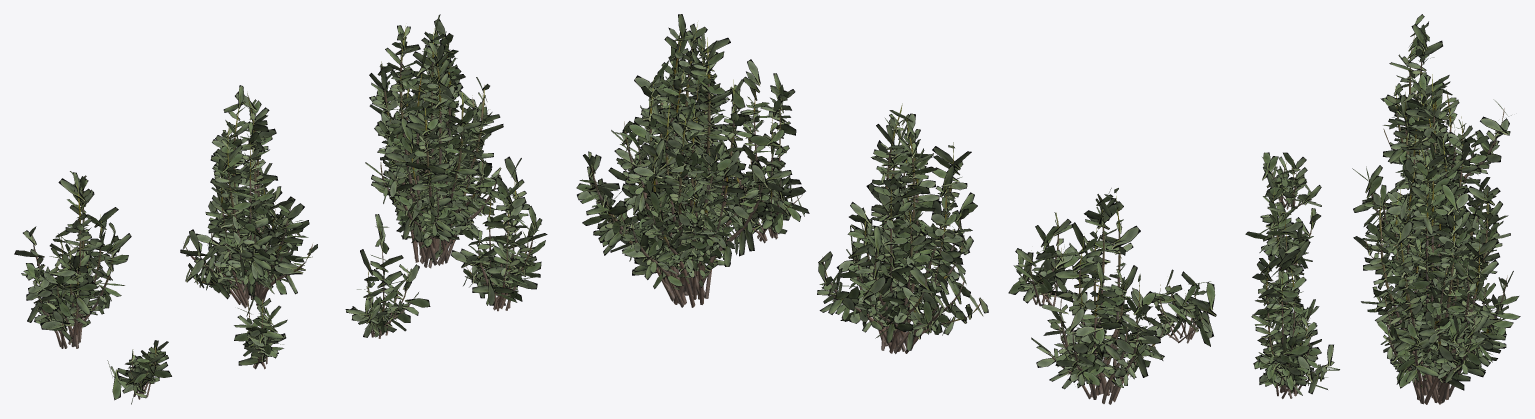
The model's file is othonna_cerarioides.glb.
3 renders of one model, left to right at view 1: azimuth 30°, elevation 25°; view 2: azimuth 150°, elevation 25°; view 3: azimuth 270°, elevation 25°, orthographic. The views are drawn at different scales.
Visible parts, largest first — view 1: othonna_cerarioides_a, othonna_cerarioides_b, othonna_cerarioides_c, othonna_cerarioides_d, othonna_cerarioides_e, othonna_cerarioides_f, othonna_cerarioides_g; view 2: othonna_cerarioides_a, othonna_cerarioides_b, othonna_cerarioides_c, othonna_cerarioides_d, othonna_cerarioides_f, othonna_cerarioides_g, othonna_cerarioides_e; view 3: othonna_cerarioides_a, othonna_cerarioides_b, othonna_cerarioides_d, othonna_cerarioides_c, othonna_cerarioides_f, othonna_cerarioides_g, othonna_cerarioides_e.
Boxes of the visible parts, x1,y1,x2,y2 form: othonna_cerarioides_a: [365, 14, 503, 268]; othonna_cerarioides_b: [180, 85, 317, 308]; othonna_cerarioides_c: [14, 171, 131, 348]; othonna_cerarioides_d: [450, 156, 547, 311]; othonna_cerarioides_e: [345, 214, 430, 338]; othonna_cerarioides_f: [234, 295, 287, 369]; othonna_cerarioides_g: [107, 340, 171, 404]; othonna_cerarioides_a: [576, 14, 784, 307]; othonna_cerarioides_b: [817, 103, 988, 353]; othonna_cerarioides_c: [1031, 188, 1167, 404]; othonna_cerarioides_d: [723, 59, 809, 243]; othonna_cerarioides_f: [1008, 212, 1084, 306]; othonna_cerarioides_g: [1131, 269, 1216, 346]; othonna_cerarioides_e: [851, 129, 939, 268]; othonna_cerarioides_a: [1360, 131, 1520, 404]; othonna_cerarioides_b: [1352, 74, 1508, 299]; othonna_cerarioides_d: [1251, 247, 1339, 398]; othonna_cerarioides_c: [1380, 14, 1511, 199]; othonna_cerarioides_f: [1245, 187, 1320, 270]; othonna_cerarioides_g: [1262, 152, 1321, 209]; othonna_cerarioides_e: [1254, 206, 1319, 336].
Size of the model in its own units: 4.04 by 1.97 by 1.88.
2 materials, 2 textured.
